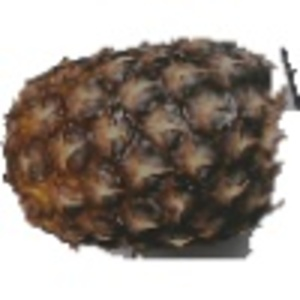abacaxi: (4, 31, 276, 252)
